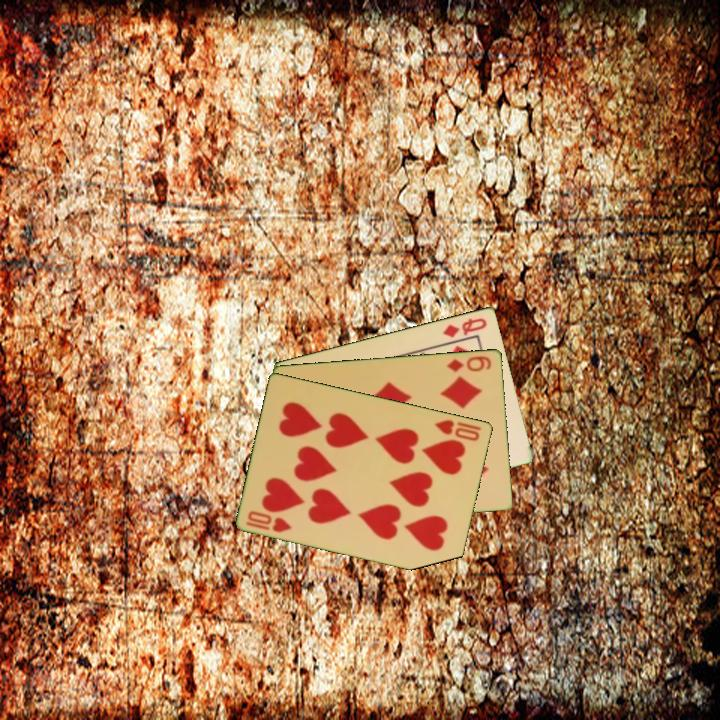10h: (432, 416, 484, 444), (243, 507, 295, 535)
6d: (443, 352, 494, 375)
Qd: (439, 314, 490, 340)
